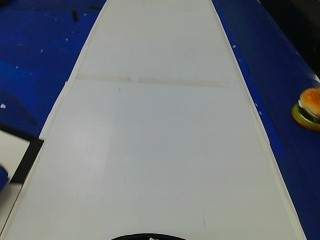burger: (289, 80, 318, 132)
